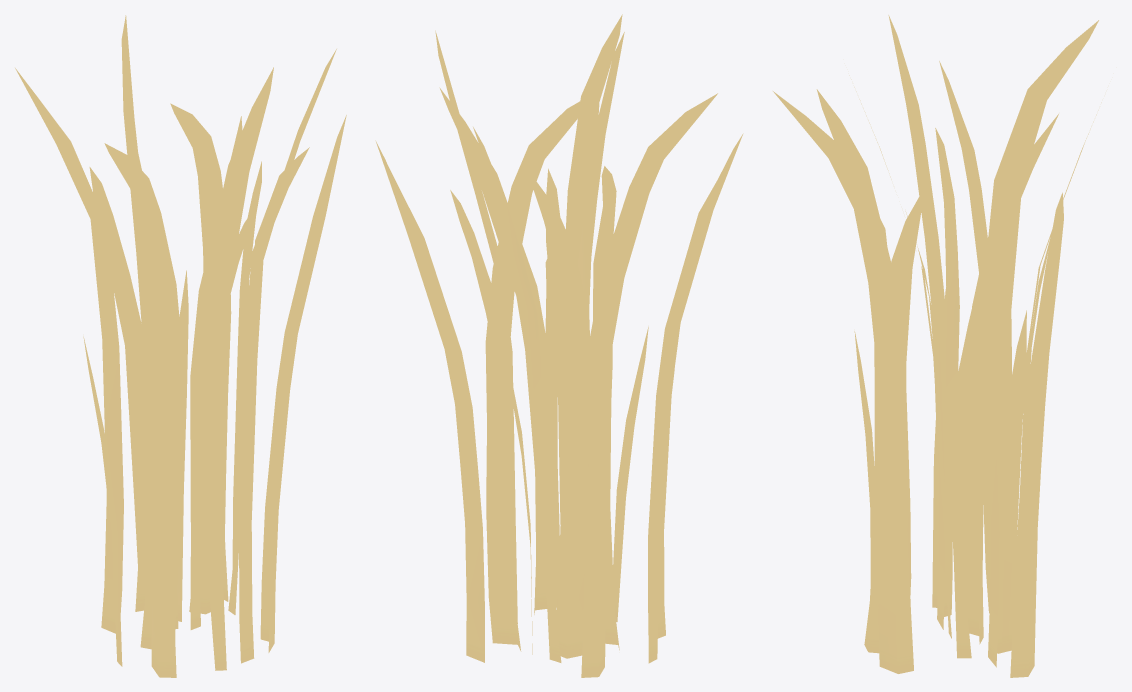
Rendered from DesertGrass_Common_Tall.obj.
3 views of the same model, side by side, from view 1: azimuth 30°, elevation 25°; view 2: azimuth 150°, elevation 25°; view 3: azimuth 270°, elevation 25° (orthographic). The views are drawn at different scales.
Parts seen in each view (by area): view 1: DesertGrass_Common_Tall; view 2: DesertGrass_Common_Tall; view 3: DesertGrass_Common_Tall.
Part boxes in pixels (x1,y1,x2,y2): DesertGrass_Common_Tall: (15,15,346,677); DesertGrass_Common_Tall: (375,14,743,677); DesertGrass_Common_Tall: (773,15,1101,677).
Size of the model in its own units: 0.8951 by 1.87 by 0.9931.
Materials: 1 (1 with a texture image).
